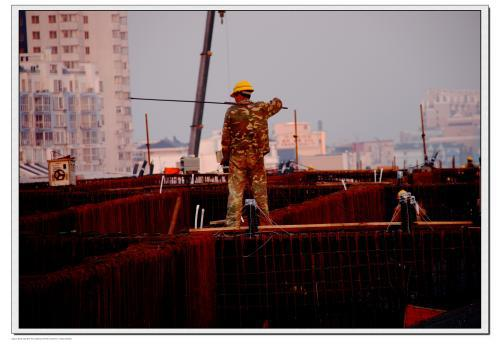helmet: (225, 79, 257, 105)
